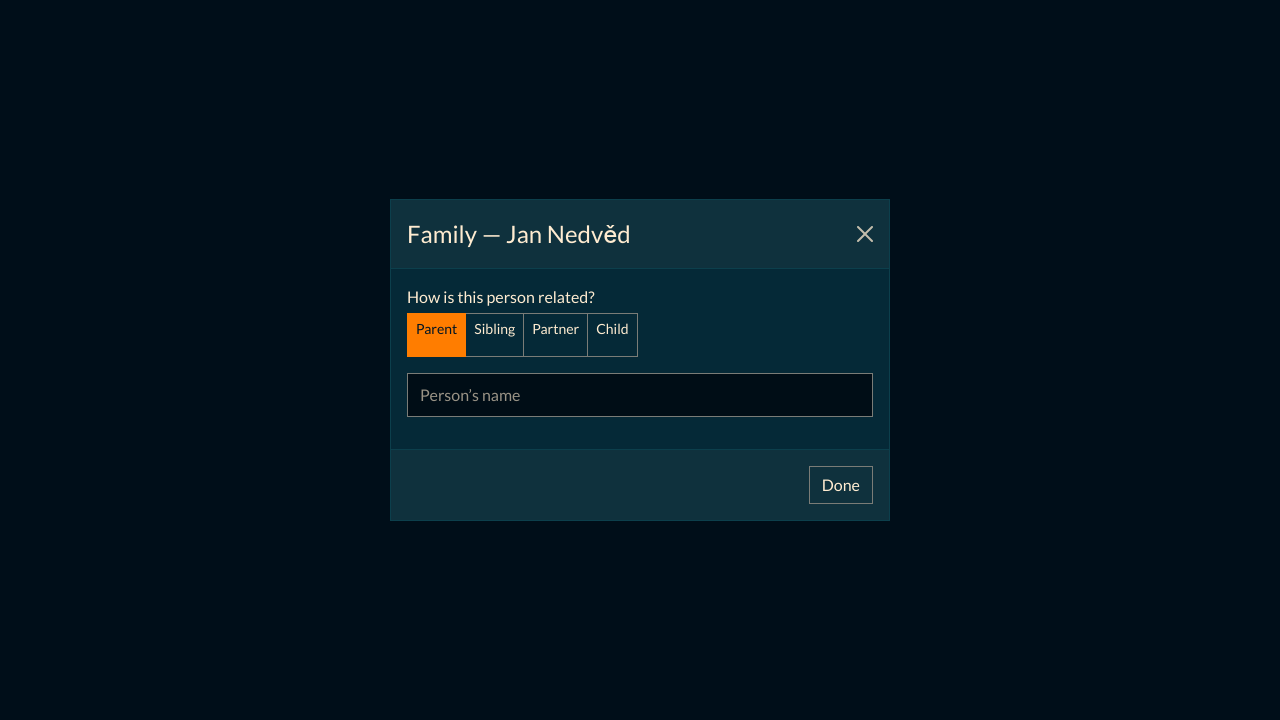
AddRelationModal › shows the whole suggestion list, which the scrollable body used to clip
Type "nedvěd" into the dropdown. click: (640, 395)
box: [407,373,873,417]
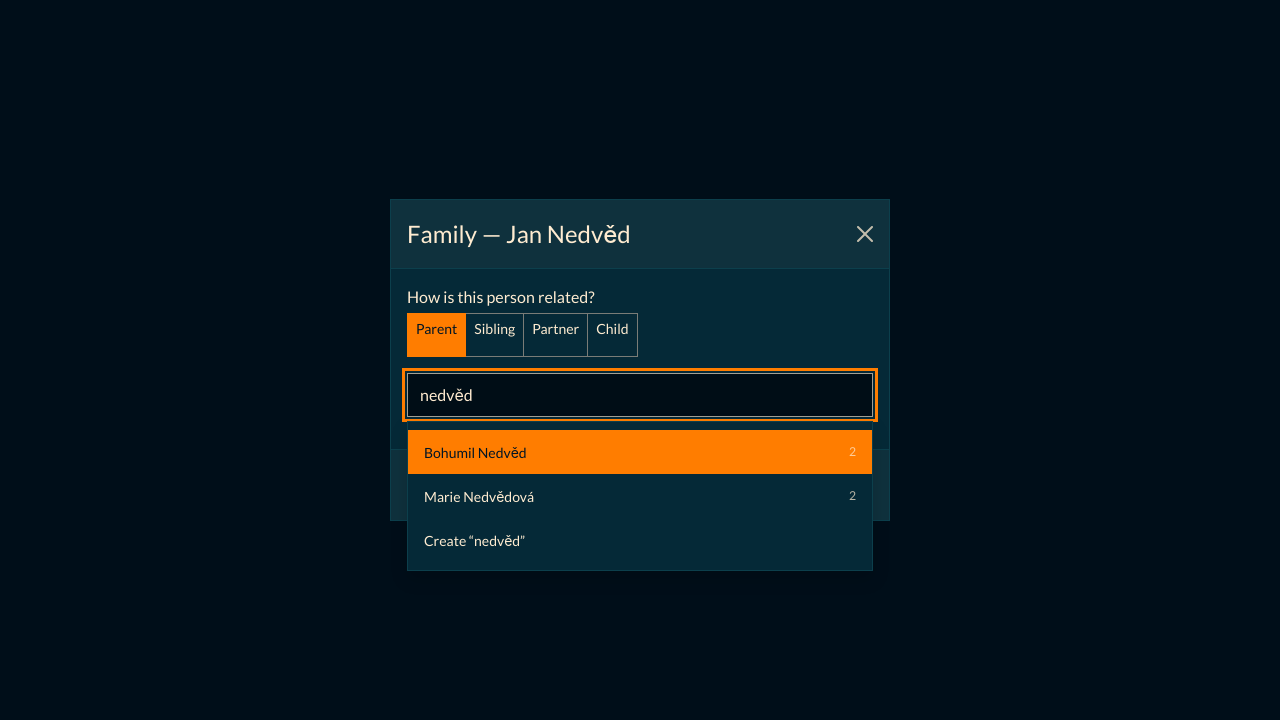
Expected: the options read "Bohumil Nedvěd2", "Marie Nedvědová2", "Create “nedvěd”", in this order, [408,430,872,474]; [408,474,872,518]; [408,518,872,562]
